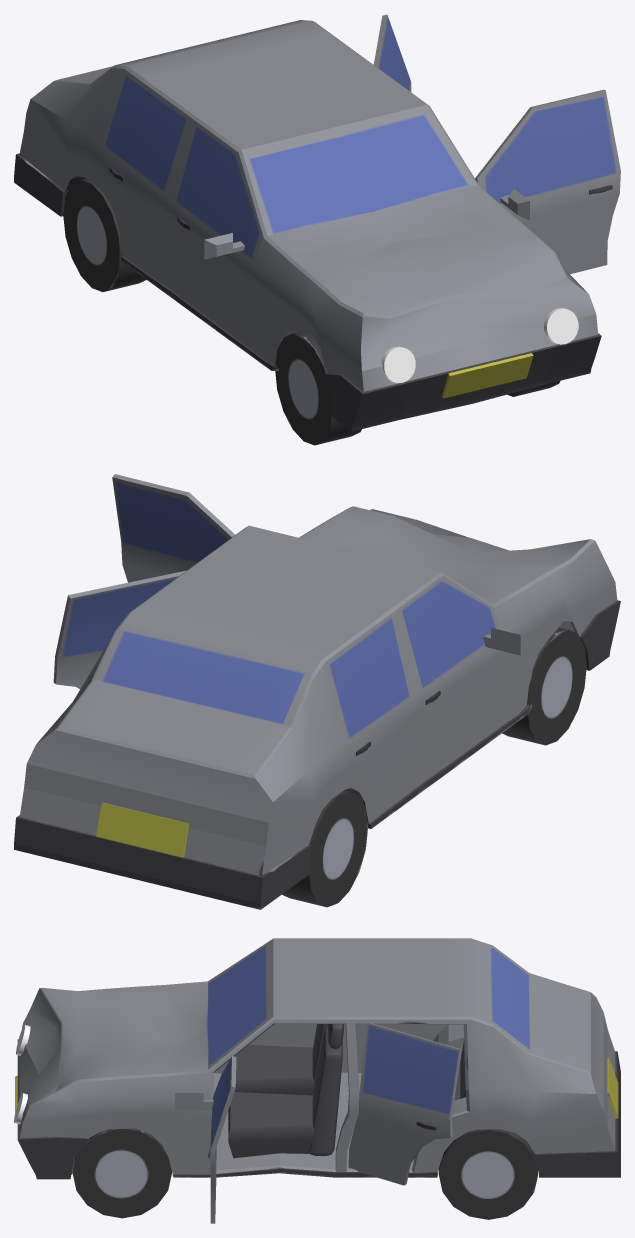
The model's file is Textured_car_final2.fbx.
3 views of the same model, one above another, from view 1: azimuth 30°, elevation 25°; view 2: azimuth 150°, elevation 25°; view 3: azimuth 270°, elevation 25° (orthographic). The views are drawn at different scales.
Visible parts, largest first — view 1: pPlane4, door, wheel1, wheel2, car_number2, door2, pCylinder1, pCylinder2, side_mirror2; view 2: pPlane4, door, door2, wheel1, wheel2, car_number, side_mirror2; view 3: pPlane4, door2, wheel4, wheel3, pCube5, pCube23, pCube7, door, side_mirror, car_number, pCube22.
Part boxes in pixels (<box>): pPlane4: <box>14,20,601,431</box>; door: <box>475,89,620,274</box>; wheel1: <box>63,178,146,291</box>; wheel2: <box>275,332,361,445</box>; car_number2: <box>442,353,533,398</box>; door2: <box>373,14,411,91</box>; pCylinder1: <box>544,308,578,344</box>; pCylinder2: <box>381,346,415,383</box>; side_mirror2: <box>204,233,244,259</box>; pPlane4: <box>14,506,620,909</box>; door: <box>112,474,235,582</box>; door2: <box>53,570,186,688</box>; wheel1: <box>282,790,367,907</box>; wheel2: <box>502,627,586,745</box>; car_number: <box>96,802,188,857</box>; side_mirror2: <box>483,628,520,655</box>; pPlane4: <box>17,938,620,1179</box>; door2: <box>348,1023,461,1185</box>; wheel4: <box>438,1129,537,1219</box>; wheel3: <box>72,1128,171,1218</box>; pCube5: <box>228,1092,314,1158</box>; pCube23: <box>228,1045,314,1095</box>; pCube7: <box>309,1027,342,1155</box>; door: <box>210,1056,236,1223</box>; side_mirror: <box>175,1093,213,1110</box>; car_number: <box>607,1058,618,1118</box>; pCube22: <box>311,1024,327,1095</box>.
Size of the model in its own units: 8.91 by 4.74 by 13.53.
